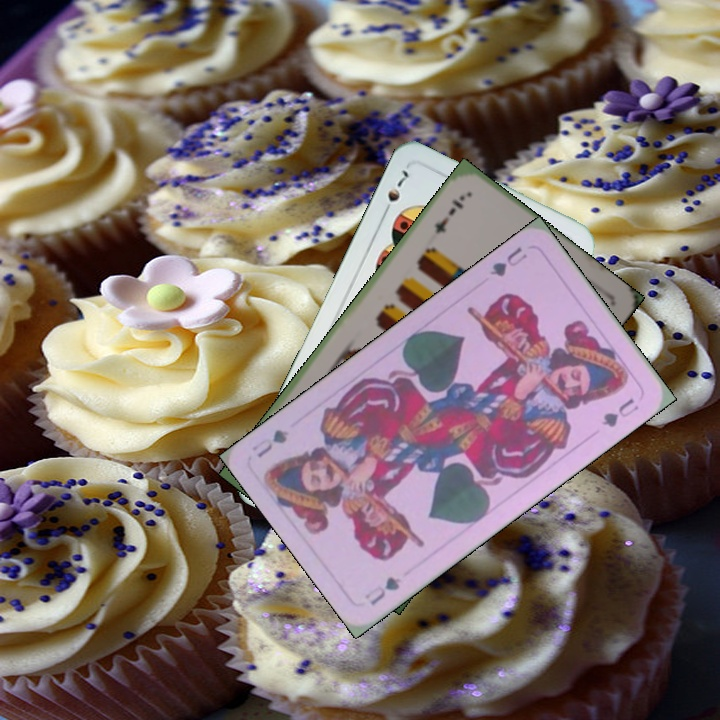E7: (430, 191, 468, 237)
GU: (485, 243, 530, 280), (360, 572, 404, 608)
S7: (378, 166, 412, 219)
